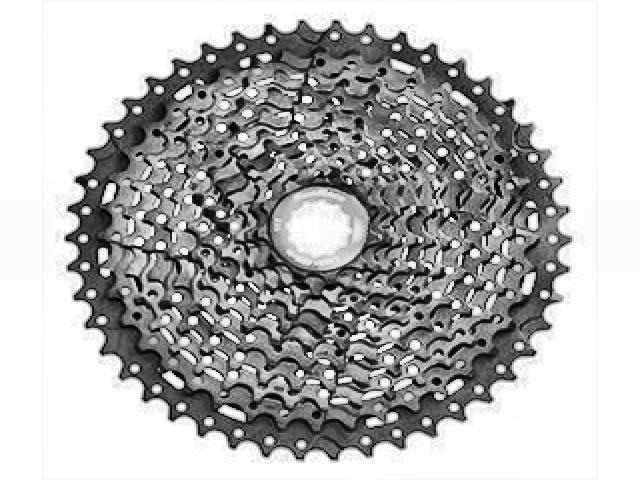cassette: (66, 20, 574, 464)
